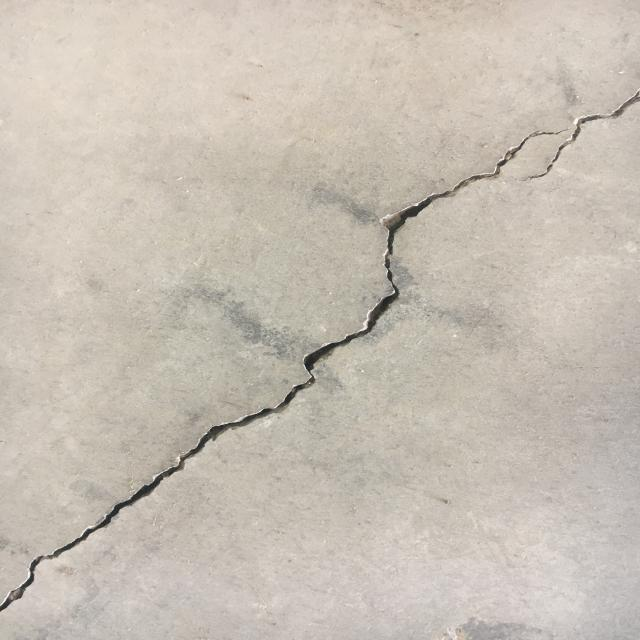Rachadura: (0, 131, 565, 611), (523, 88, 640, 180)
